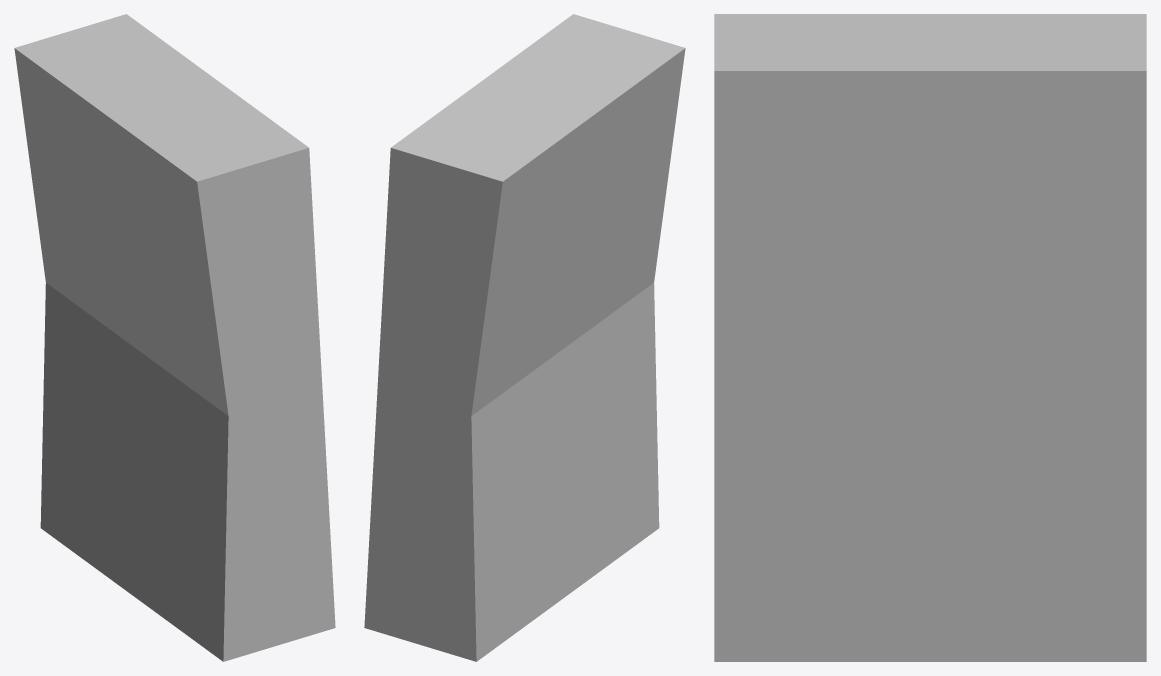
Rendered from interruttoreSalotto2.fbx.
3 views of the same model, side by side, from view 1: azimuth 30°, elevation 25°; view 2: azimuth 150°, elevation 25°; view 3: azimuth 270°, elevation 25° (orthographic). The views are drawn at different scales.
Visible parts, largest first — view 1: interruttore.001; view 2: interruttore.001; view 3: interruttore.001.
Boxes of the visible parts, x1,y1,x2,y2 form: interruttore.001: [14, 14, 335, 661]; interruttore.001: [364, 14, 685, 661]; interruttore.001: [714, 14, 1146, 661].
Size of the model in its own units: 1.51 by 5.14 by 3.45.
